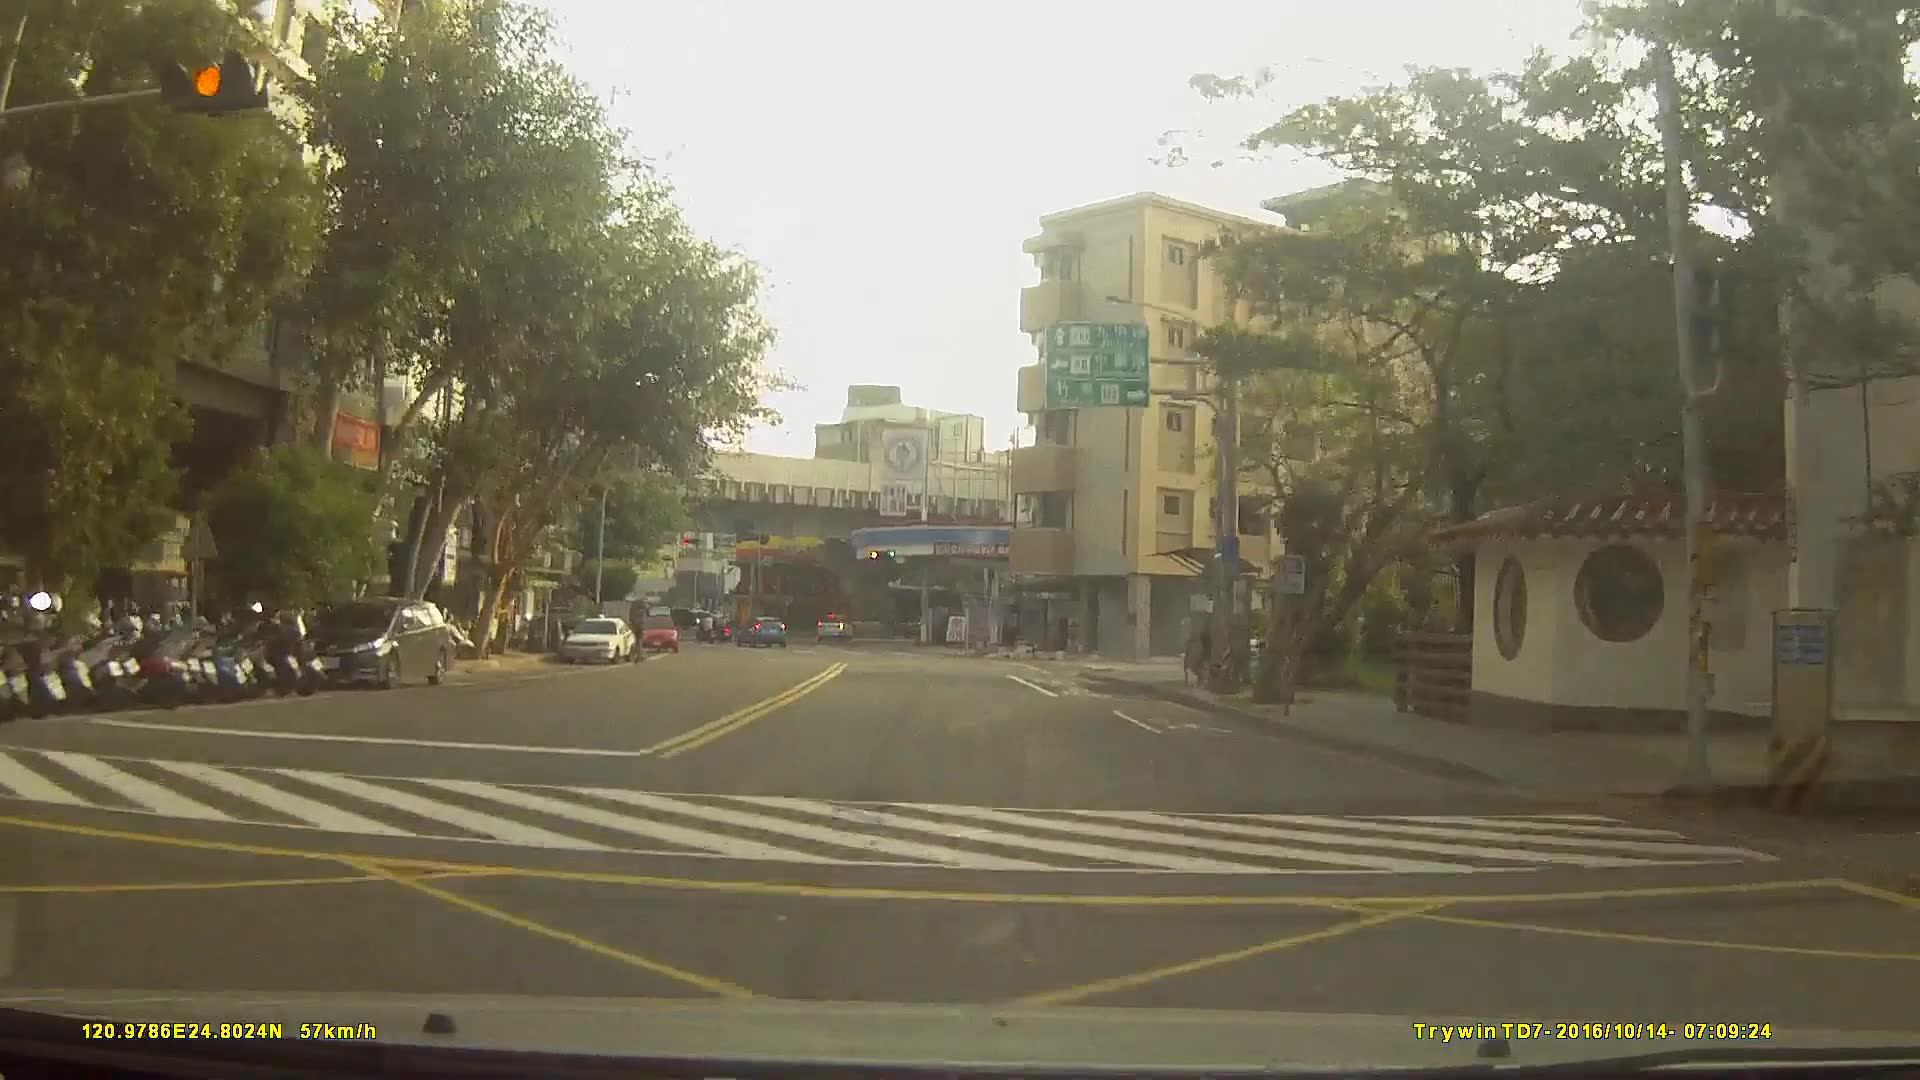rider: (694, 616, 719, 650)
vehicle: (298, 594, 455, 692), (559, 617, 636, 668), (636, 611, 679, 651), (735, 616, 786, 648), (814, 612, 854, 640)
